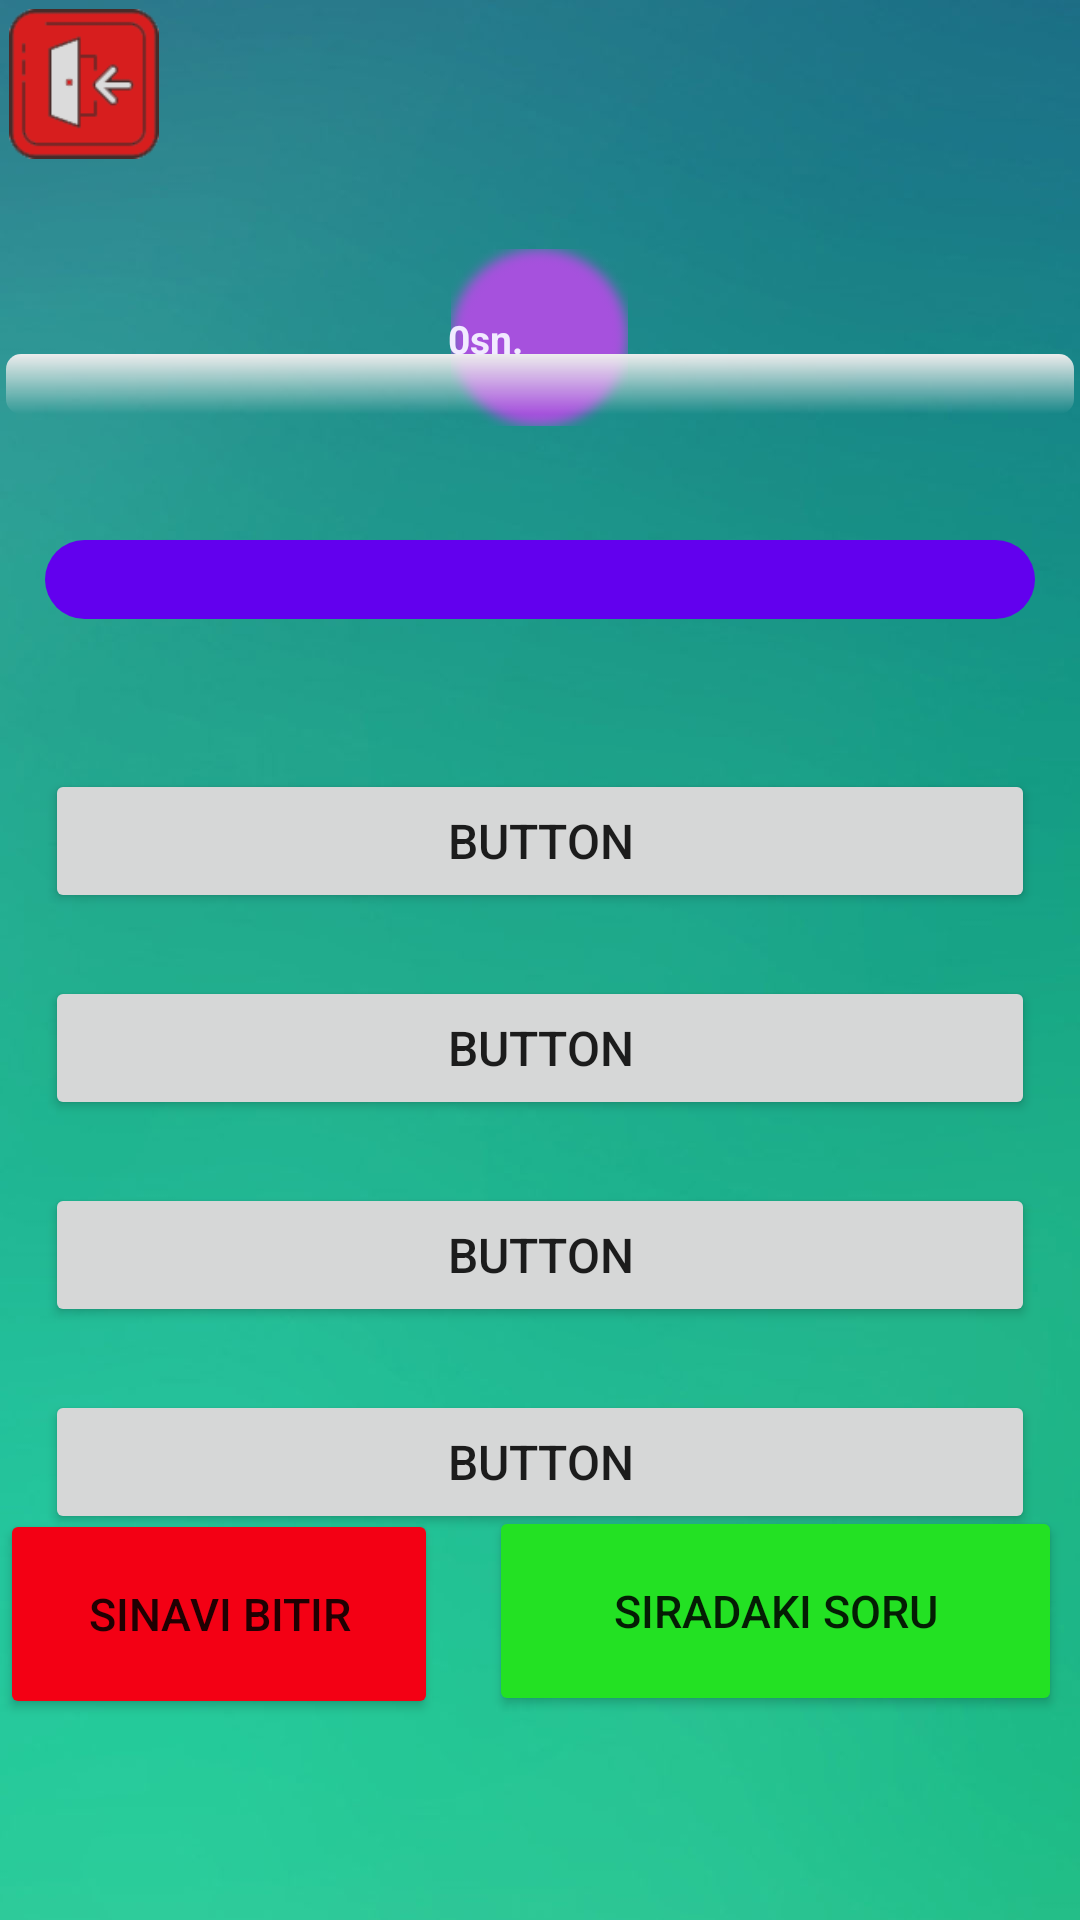

Locate icon controls on the screen. Image size 1080px x 1920px, boxes as (x1, y1, x2, y2).
sinavdan ayril: (9, 9, 159, 159)
